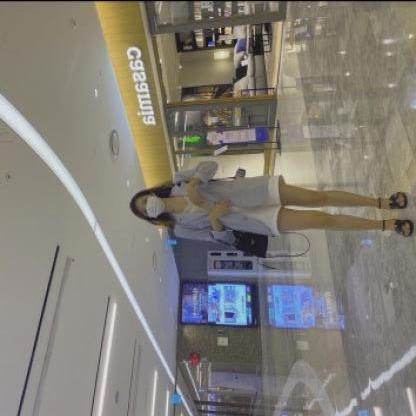no_safety-shoe: (371, 182, 415, 214), (385, 207, 415, 250)
